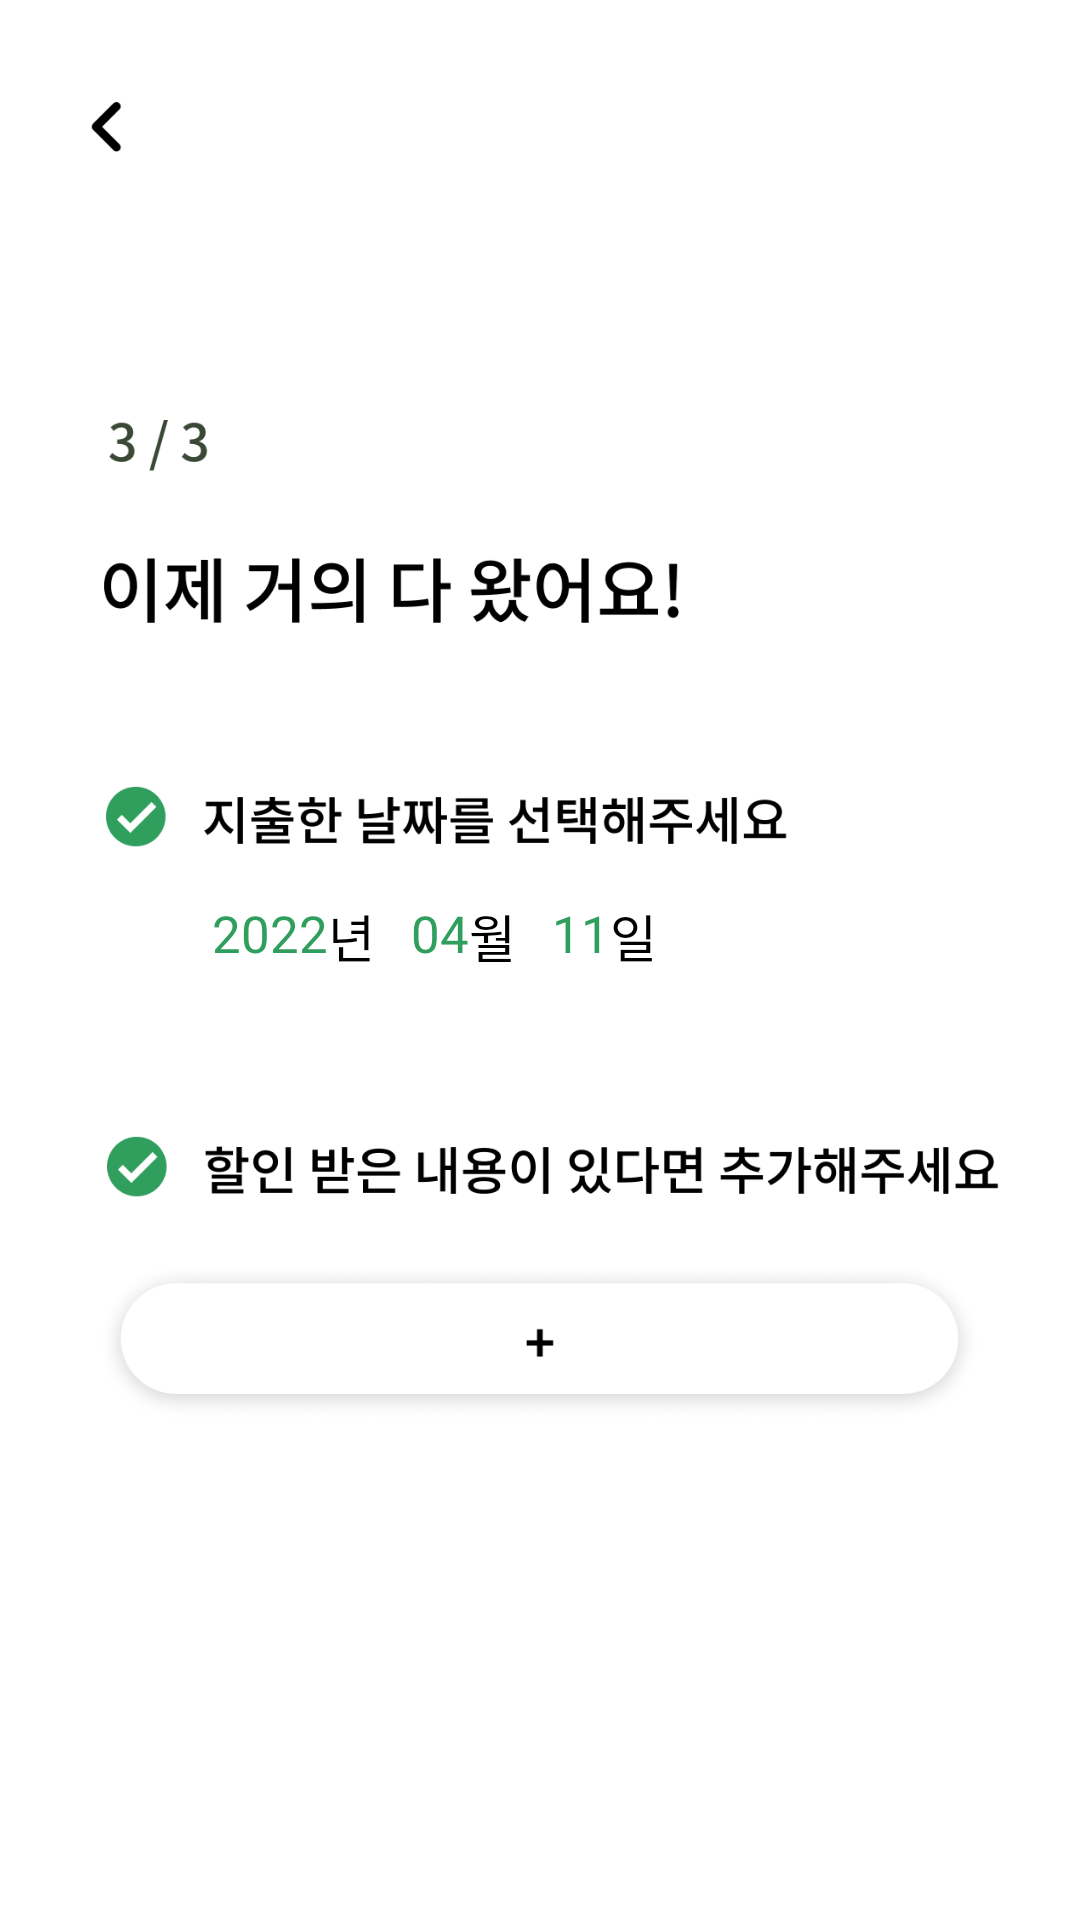

Point at icon controls on the screen. Image size 1080 × 1920, points as point (x, y).
cameraadd back: point (106, 127)
